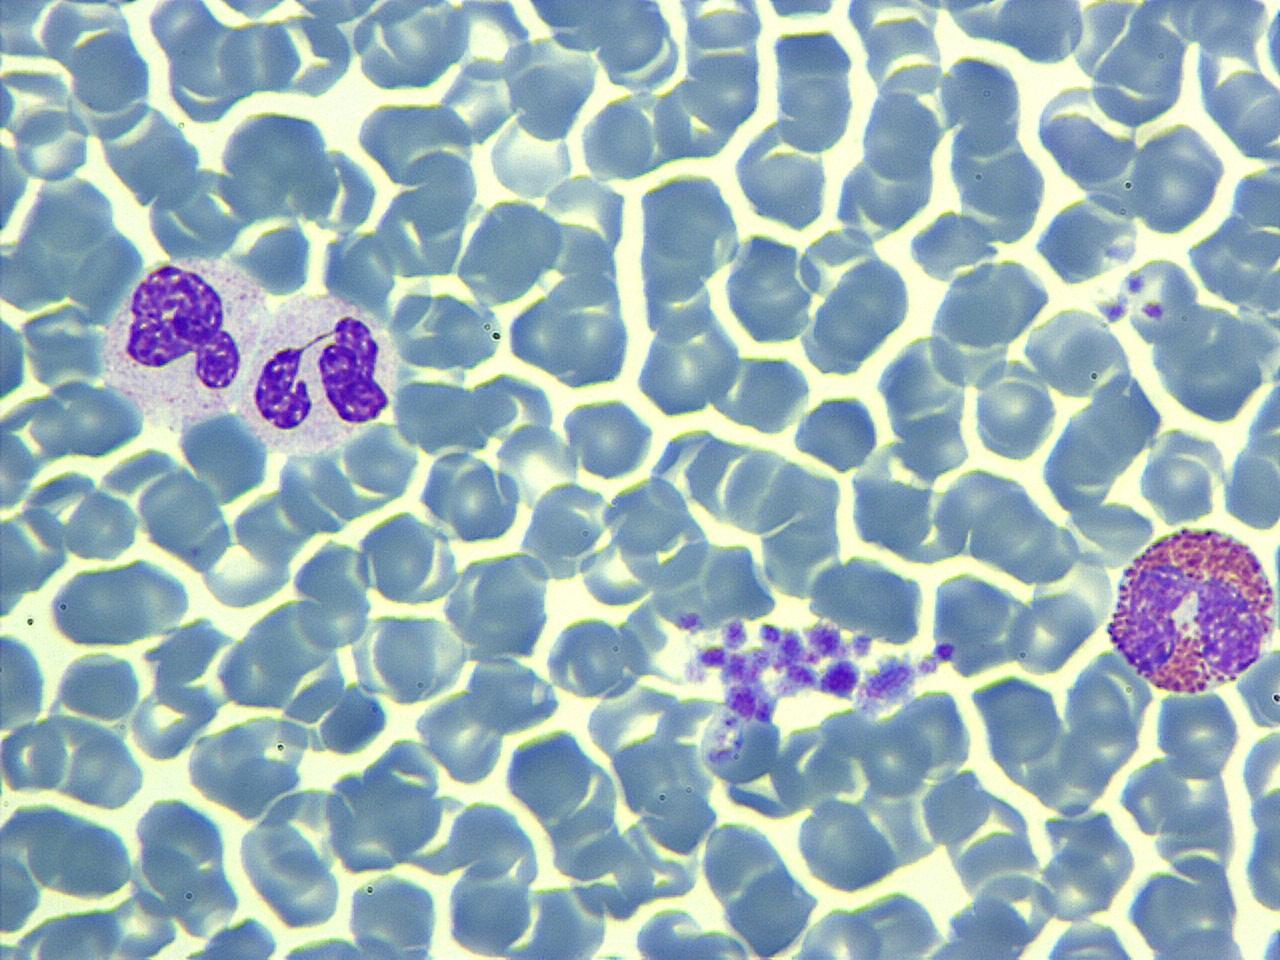Platelets: (1256, 924, 1280, 960), (1096, 297, 1128, 323), (1122, 269, 1146, 295)
RBC: (214, 106, 338, 228), (368, 608, 465, 710), (938, 50, 1027, 160), (1150, 684, 1240, 786), (340, 872, 443, 960), (559, 394, 659, 482), (361, 506, 440, 606), (790, 390, 884, 475), (127, 680, 216, 760), (972, 378, 1056, 462), (54, 646, 144, 722), (10, 104, 93, 184), (445, 464, 524, 547), (0, 715, 71, 797), (1, 626, 50, 742), (1018, 920, 1152, 959), (1, 116, 31, 258), (0, 419, 34, 516), (1, 301, 28, 412)
WBC: (2, 791, 239, 960), (1101, 522, 1277, 700), (100, 257, 253, 425), (239, 296, 395, 457), (926, 251, 1049, 384), (214, 106, 342, 228), (42, 554, 191, 649), (1224, 348, 1280, 542), (938, 48, 1025, 162), (790, 392, 886, 480), (148, 914, 292, 958)
